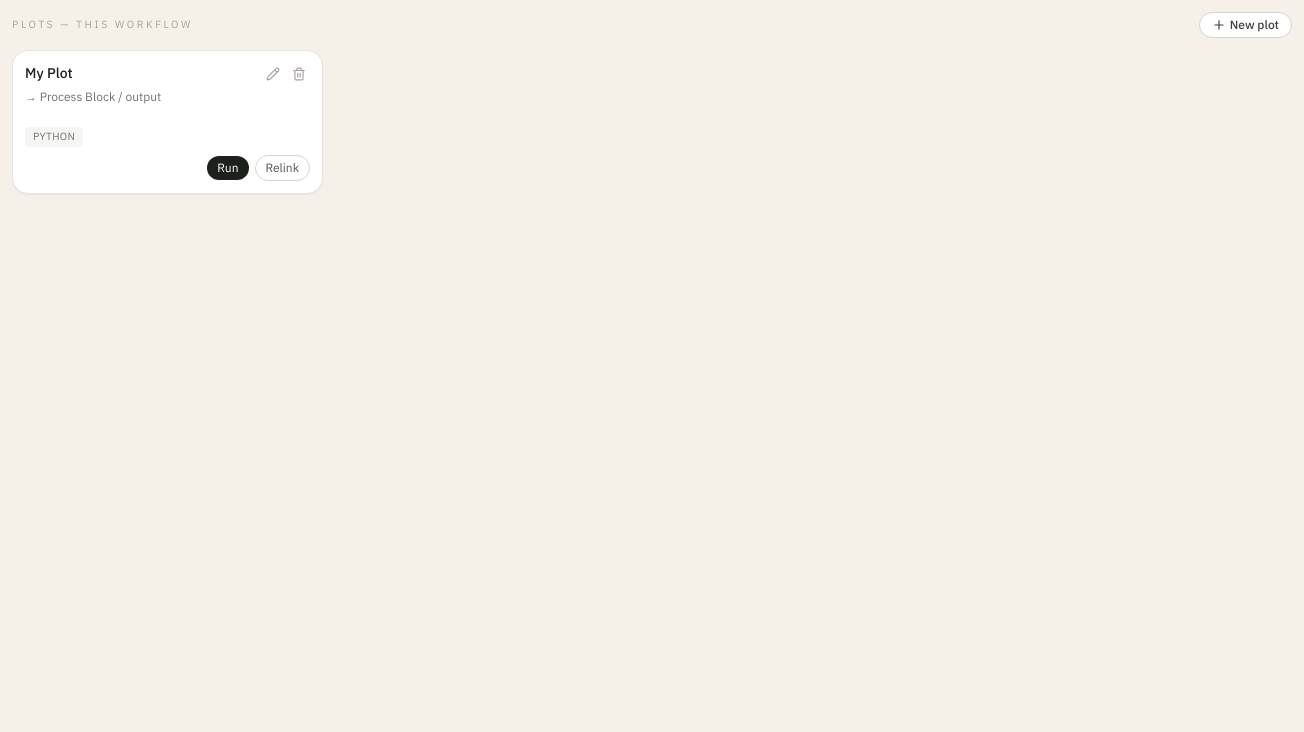
Test case: PlotsTab › opens the in-panel relink picker from a card (#1799)
The width and height of the screenshot is (1304, 732).
Click the button with aria-label "Relink data source for plot My Plot".
click(282, 168)  # box top-left (254, 155), bottom-right (310, 181)
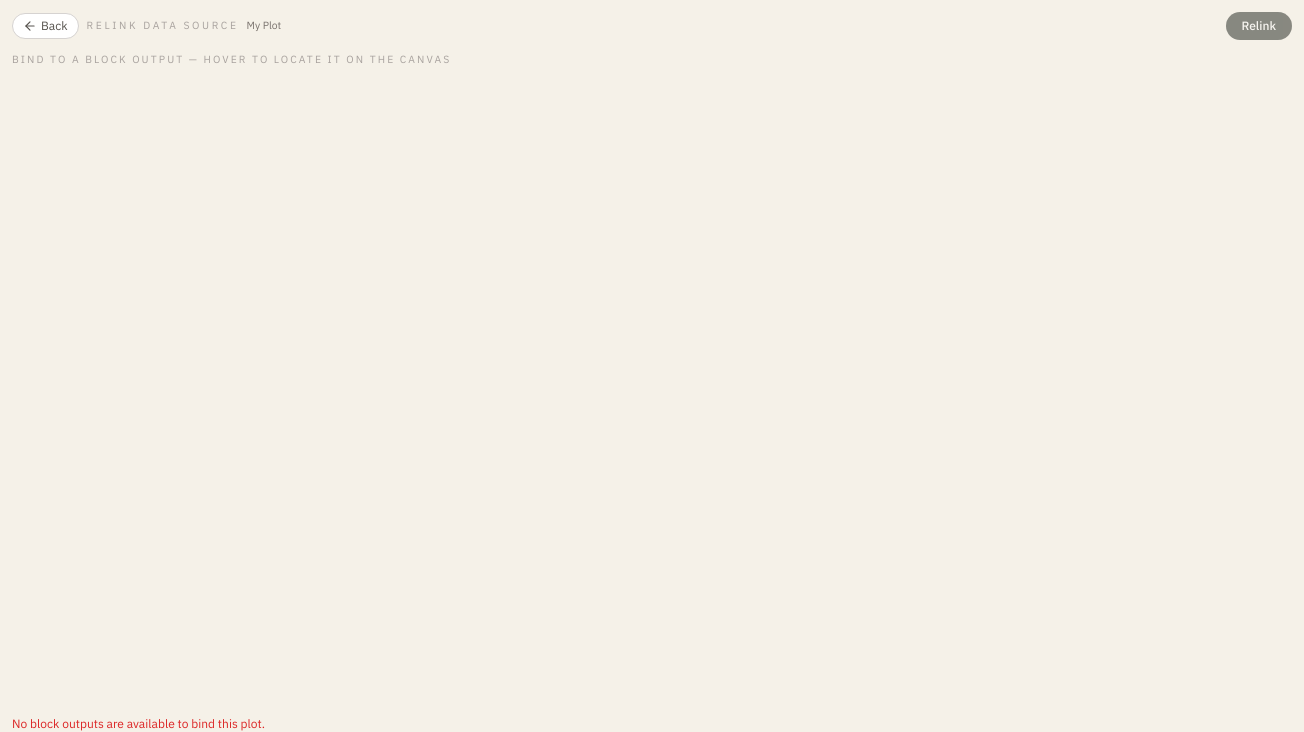
Check: the text "Relink data source" is shown, box top-left (87, 18), bottom-right (239, 32)
